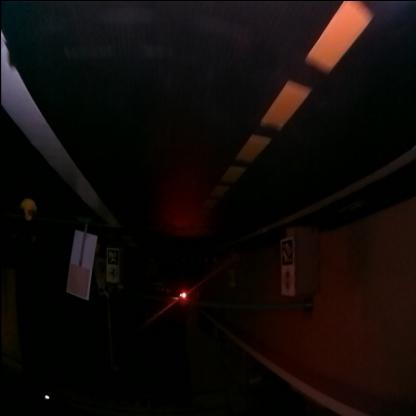Duckie: (22, 200, 36, 218)
Intersection sign: (107, 265, 117, 280)
QR code: (281, 240, 294, 265), (107, 248, 118, 264)
Signal sign: (283, 268, 292, 294)
Traffic light: (181, 290, 186, 300)
